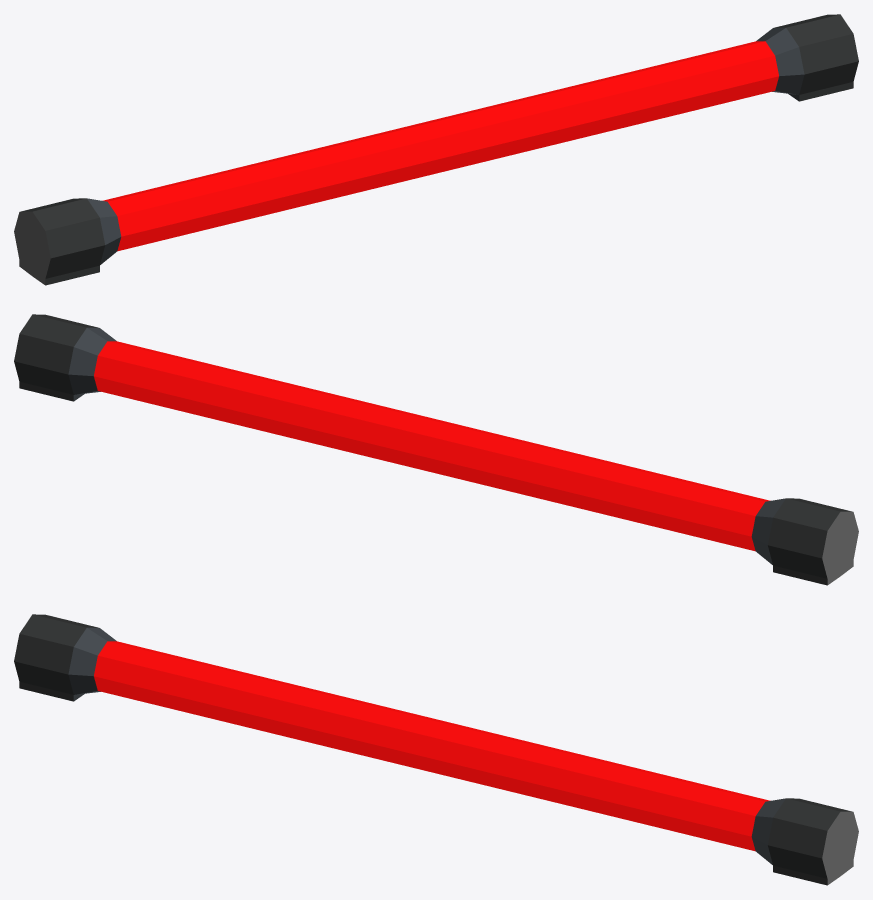
Rendered from NeonLightTube_06.glb.
3 renders of one model, top to bottom at view 1: azimuth 30°, elevation 25°; view 2: azimuth 150°, elevation 25°; view 3: azimuth 330°, elevation 25°, orthographic.
Parts seen in each view (by area): view 1: NeonLightTube_06; view 2: NeonLightTube_06; view 3: NeonLightTube_06.
Part boxes in pixels (left/top/right/bottom): NeonLightTube_06: left=14, top=14, right=858, bottom=285; NeonLightTube_06: left=14, top=314, right=858, bottom=585; NeonLightTube_06: left=14, top=614, right=858, bottom=885.
Size of what is drawn, in the model's own units: 1.71 by 0.1314 by 0.1354.
2 materials, 2 textured.
